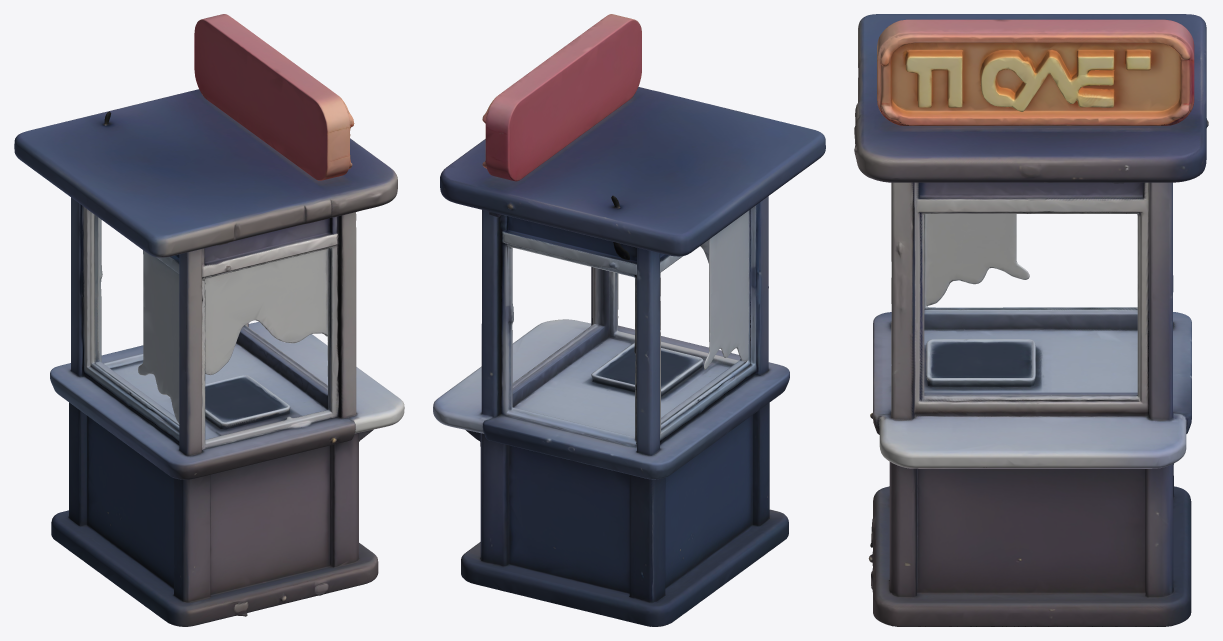
Rendered from plaza-kiosk-ticket.glb.
3 views of the same model, side by side, from view 1: azimuth 30°, elevation 25°; view 2: azimuth 150°, elevation 25°; view 3: azimuth 270°, elevation 25° (orthographic). The views are drawn at different scales.
Visible parts, largest first — view 1: tripo_node_67e951a3-67be-4805-a4ee-8c1d300f0a03; view 2: tripo_node_67e951a3-67be-4805-a4ee-8c1d300f0a03; view 3: tripo_node_67e951a3-67be-4805-a4ee-8c1d300f0a03.
Boxes of the visible parts, bbox=[...] form: tripo_node_67e951a3-67be-4805-a4ee-8c1d300f0a03: bbox=[14, 14, 404, 626]; tripo_node_67e951a3-67be-4805-a4ee-8c1d300f0a03: bbox=[433, 14, 825, 626]; tripo_node_67e951a3-67be-4805-a4ee-8c1d300f0a03: bbox=[854, 14, 1208, 626].
Size of the model in its own units: 1.46 by 2.5 by 1.39.
1 material, 1 textured.
